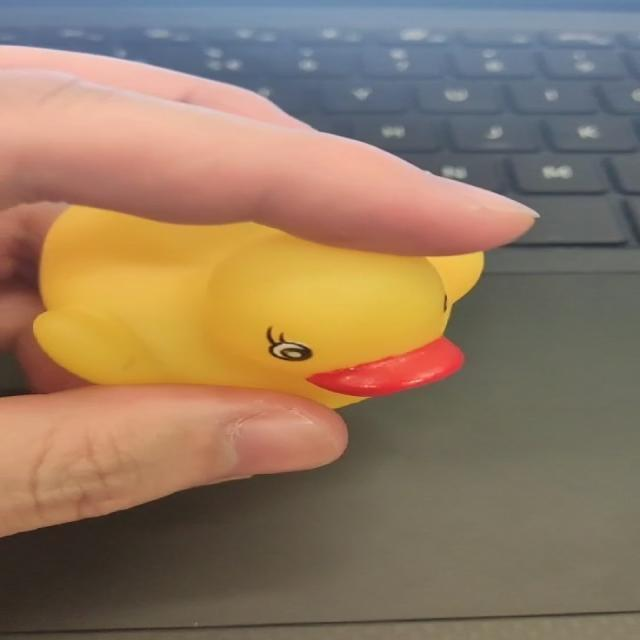rubber-duck: (33, 205, 482, 406)
